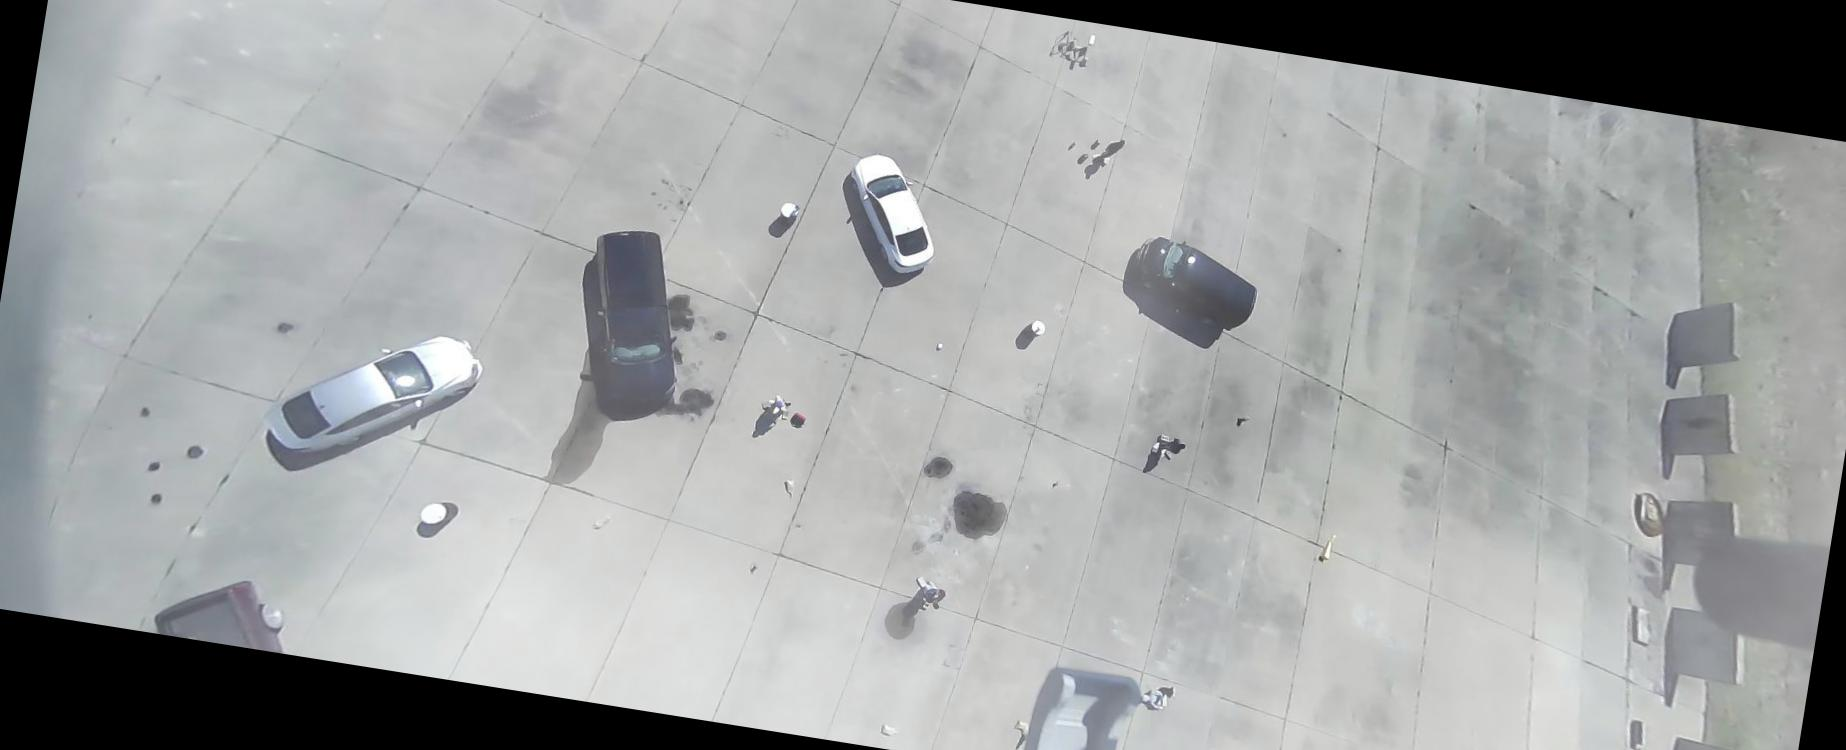vehicle: (259, 308, 486, 479), (571, 224, 700, 416), (836, 151, 950, 279), (1127, 231, 1264, 336), (150, 566, 299, 653)
